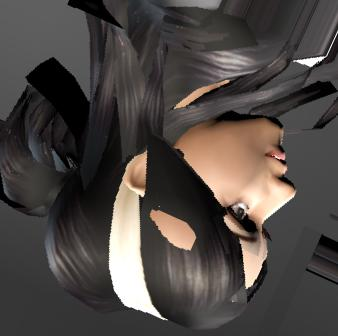clip: (148, 205, 200, 254)
